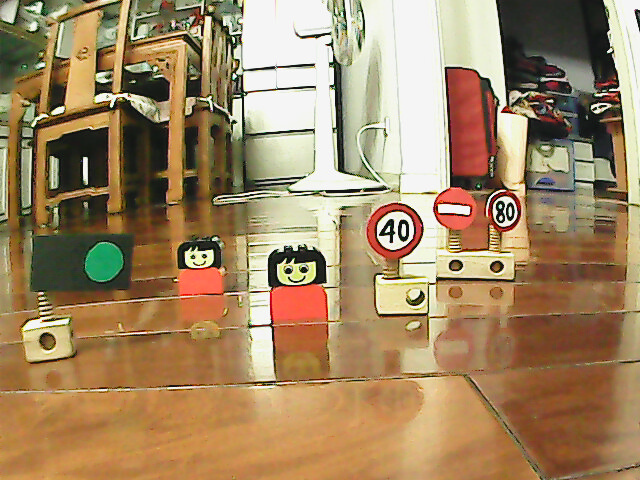Green Traffic Light: (80, 235, 130, 290)
Person: (264, 242, 333, 328), (174, 232, 229, 300)
Speed Limit 40: (363, 199, 427, 261)
Speed Limit 80: (483, 186, 523, 234)
Stop Sign: (430, 184, 479, 234)
